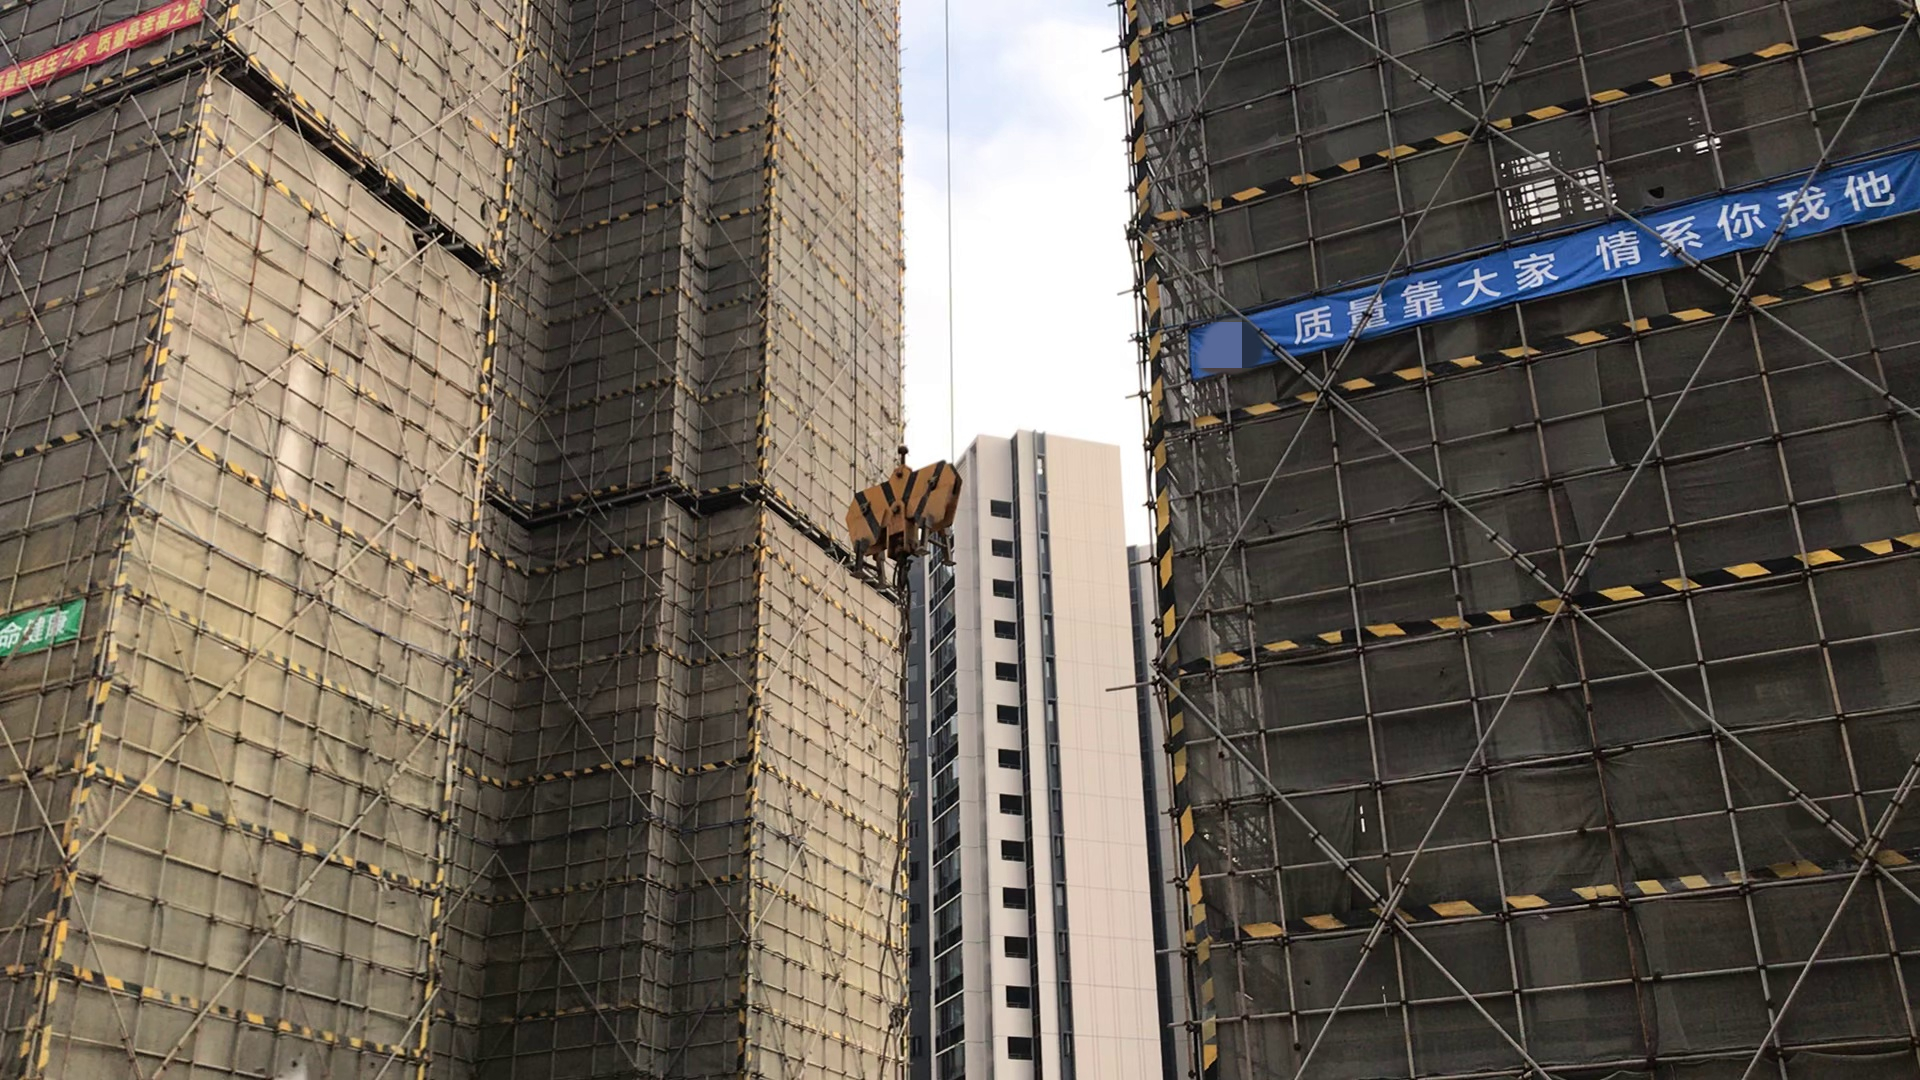fence: (1236, 157, 1895, 382), (1, 3, 214, 98), (4, 595, 87, 654)
hook: (845, 439, 967, 593)
